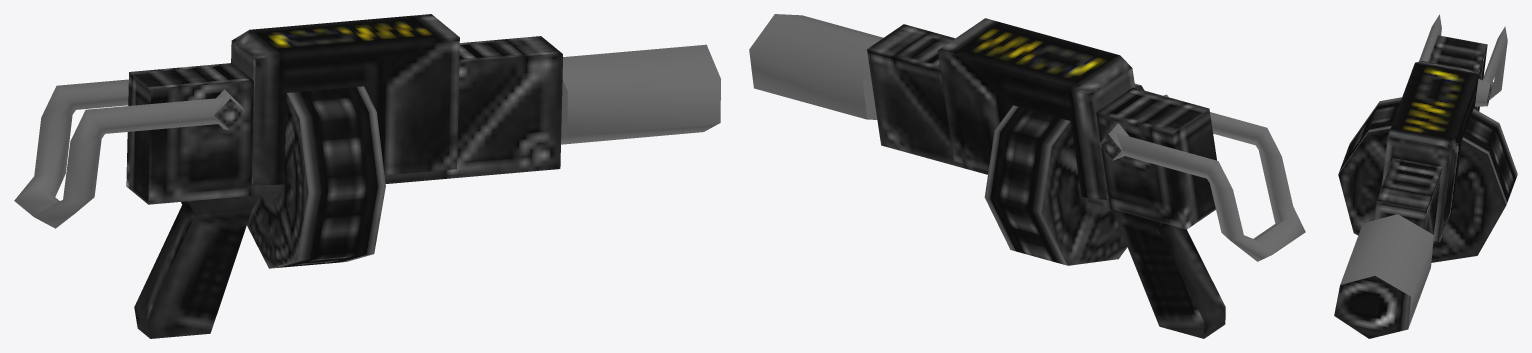
The model's file is p_snailgun.glb.
3 renders of one model, left to right at view 1: azimuth 30°, elevation 25°; view 2: azimuth 150°, elevation 25°; view 3: azimuth 270°, elevation 25°, orthographic. The views are drawn at different scales.
Visible parts, largest first — view 1: p_snailgun; view 2: p_snailgun; view 3: p_snailgun.
Boxes of the visible parts, <box> form: p_snailgun: <box>14,14,720,338</box>; p_snailgun: <box>749,14,1305,338</box>; p_snailgun: <box>1334,14,1517,338</box>.
Bounding box in the file's own units: 24.49 × 9.94 × 7.77.
2 materials, 2 textured.
